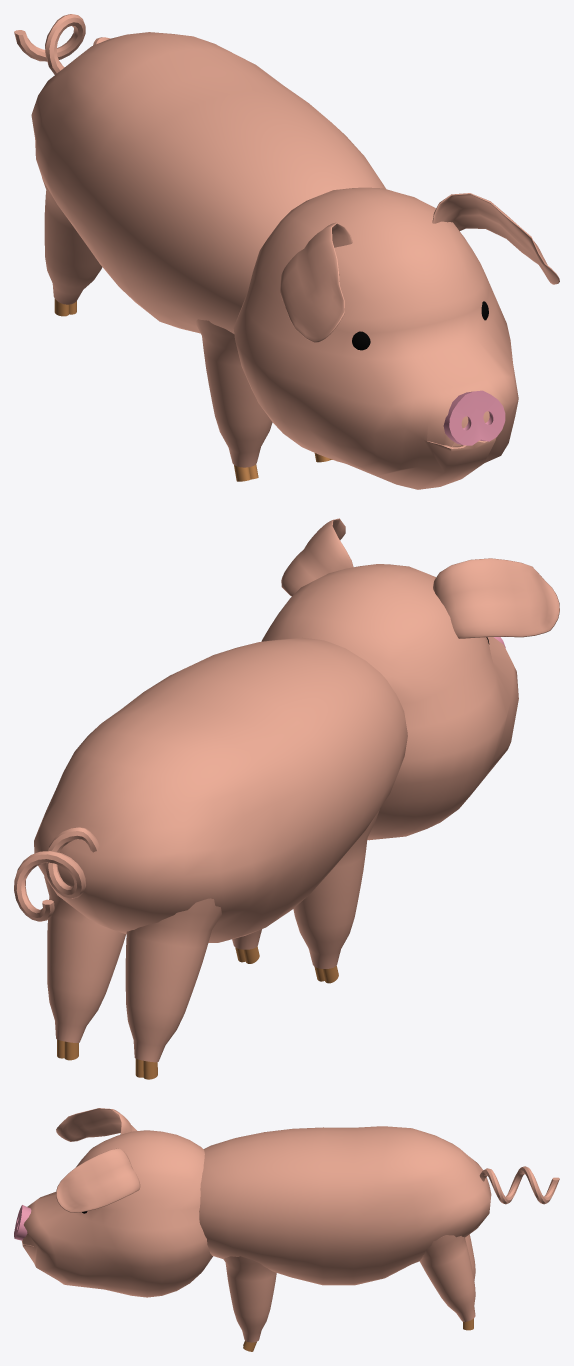
The model's file is PigNotHis0110.fbx.
3 views of the same model, one above another, from view 1: azimuth 30°, elevation 25°; view 2: azimuth 150°, elevation 25°; view 3: azimuth 270°, elevation 25° (orthographic). The views are drawn at different scales.
Visible parts, largest first — view 1: pSphere3; view 2: pSphere3; view 3: pSphere3.
Boxes of the visible parts, left/top/right/bottom form: pSphere3: left=14, top=14, right=559, bottom=489; pSphere3: left=14, top=518, right=559, bottom=1079; pSphere3: left=14, top=1108, right=559, bottom=1351.
Size of the model in its own units: 4.55 by 6.02 by 14.25.
